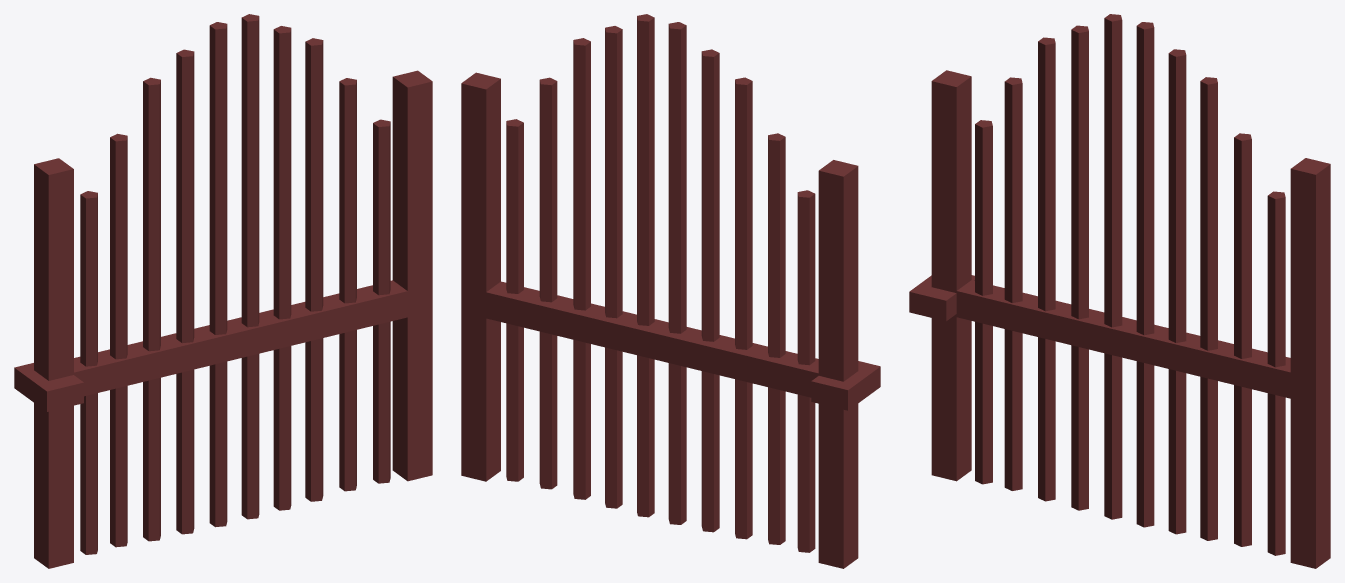
The model's file is Portao_1.fbx.
The picture shows the model from 3 angles, left to right: view 1: azimuth 30°, elevation 25°; view 2: azimuth 150°, elevation 25°; view 3: azimuth 330°, elevation 25°; orthographic projection.
Parts seen in each view (by area): view 1: pCylinder33; view 2: pCylinder33; view 3: pCylinder33.
Part boxes in pixels (x1=…): pCylinder33: x1=14, y1=14, x2=432, y2=568; pCylinder33: x1=461, y1=14, x2=880, y2=568; pCylinder33: x1=909, y1=14, x2=1330, y2=568.
Bounding box in the file's own units: 5.72 × 6.87 × 0.8203.
